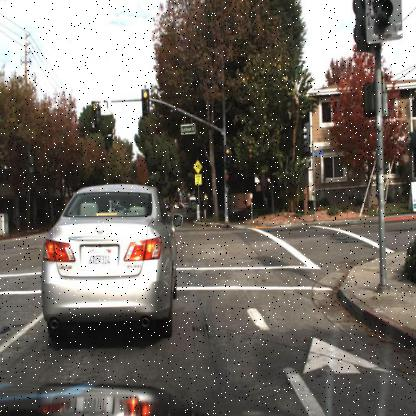car: (40, 185, 176, 337)
trafficLight-Red: (140, 90, 150, 120), (221, 140, 232, 160), (224, 146, 232, 172)
trafficLight-RedLeft: (90, 100, 99, 128)
